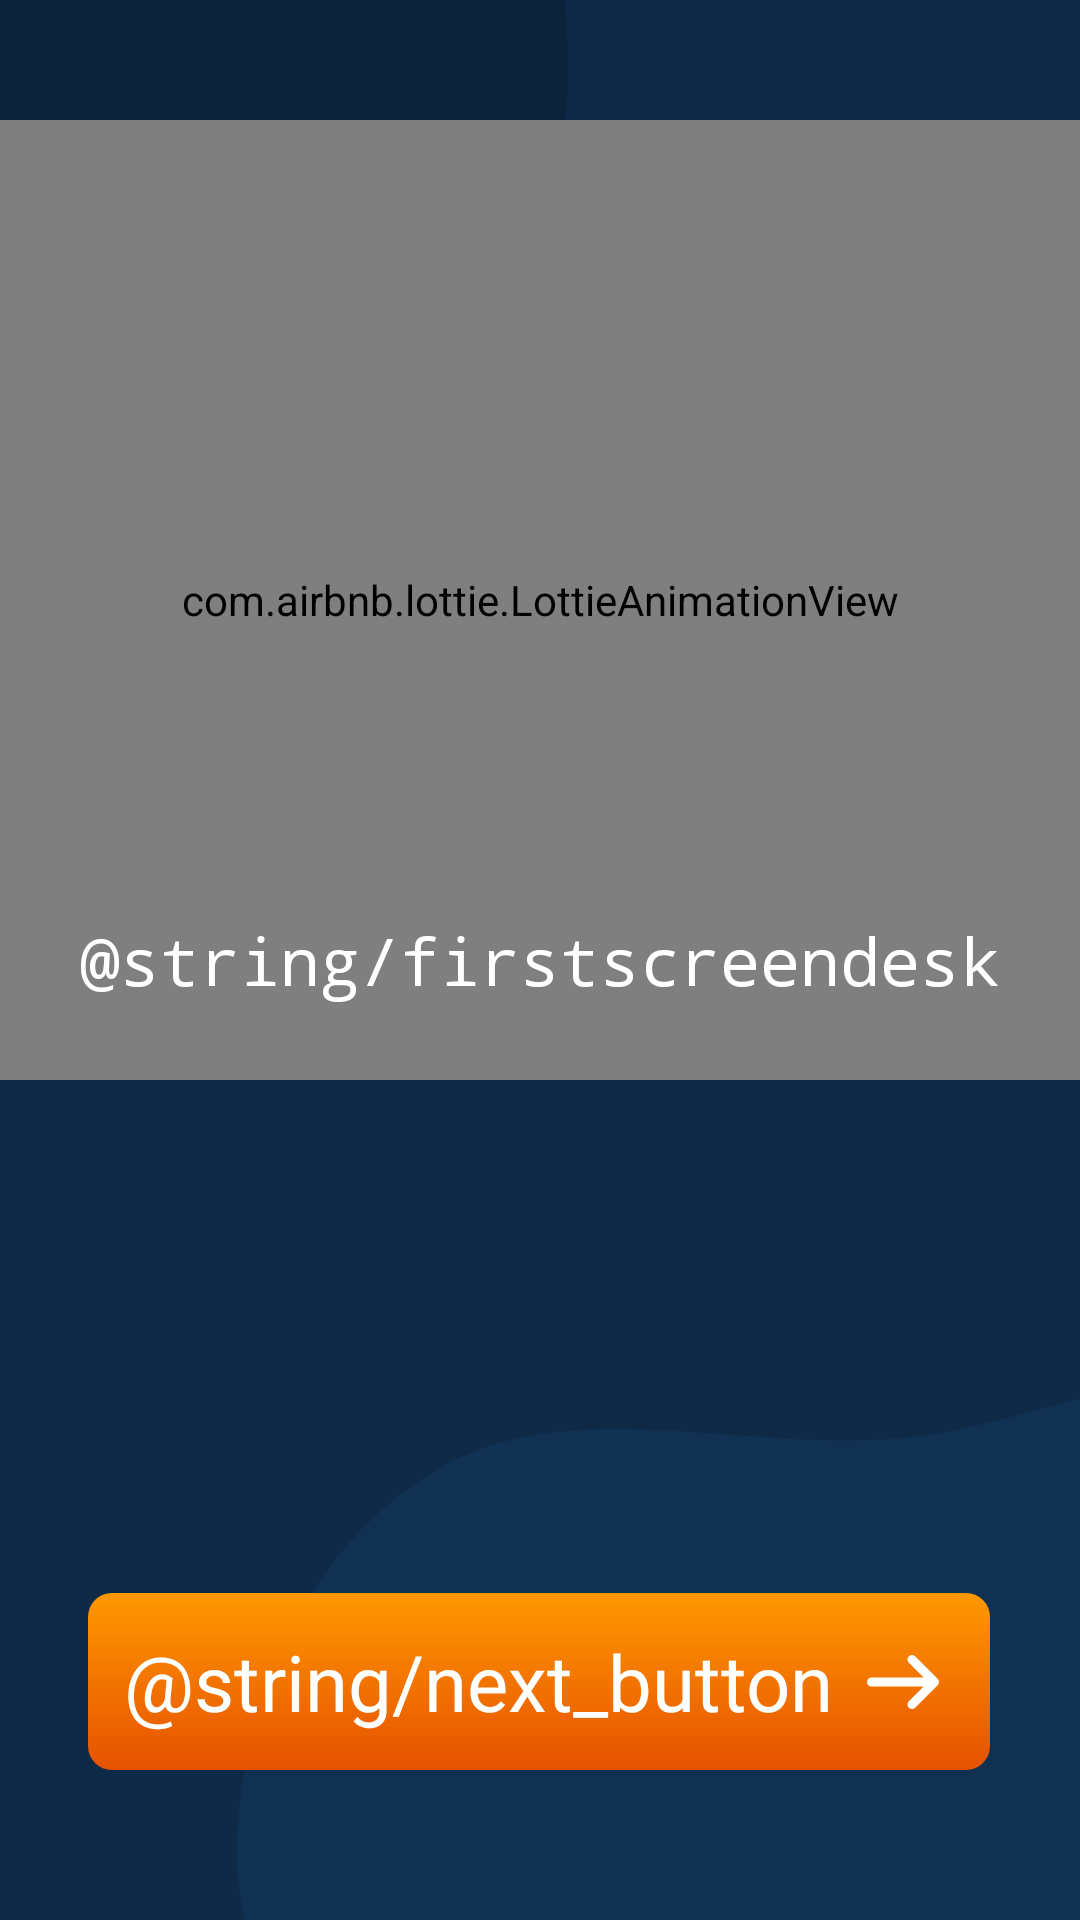

Screen size 1080 × 1920. Icon name, then its center in pixels as (x=x, y=y):
arrowright: (x=903, y=1682)
